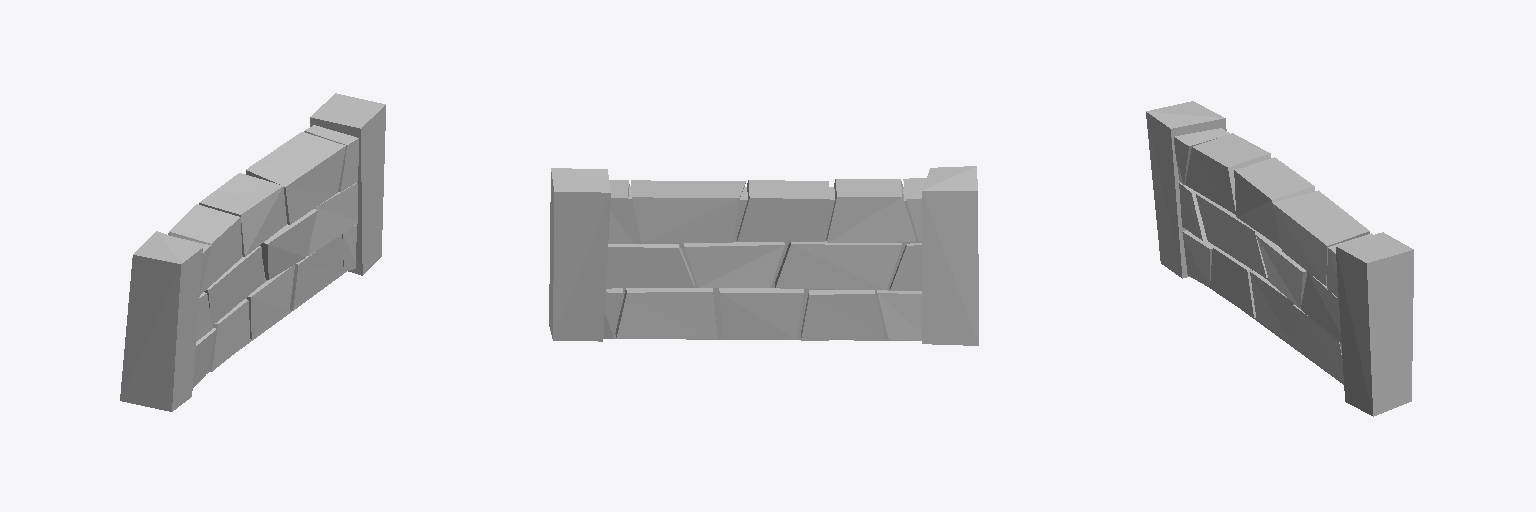
3 renders of one model, left to right at view 1: azimuth 30°, elevation 25°; view 2: azimuth 150°, elevation 25°; view 3: azimuth 270°, elevation 25°, orthographic.
Parts seen in each view (by area): view 1: group[number redacted], group[number redacted], group[number redacted], group[number redacted], group[number redacted], group[number redacted], group[number redacted], group[number redacted], group[number redacted], group[number redacted], group[number redacted], group[number redacted] (+3 smaller); view 2: group[number redacted], group[number redacted], group[number redacted], group[number redacted], group[number redacted], group[number redacted], group[number redacted], group[number redacted], group[number redacted], group[number redacted], group[number redacted], group[number redacted] (+5 smaller); view 3: group[number redacted], group[number redacted], group[number redacted], group[number redacted], group[number redacted], group[number redacted], group[number redacted], group[number redacted], group[number redacted], group[number redacted], group[number redacted], group[number redacted] (+2 smaller).
Boxes of the visible parts, x1,y1,x2,y2 form: group[number redacted]: [120, 231, 202, 411]; group[number redacted]: [310, 93, 385, 275]; group[number redacted]: [246, 132, 345, 224]; group[number redacted]: [199, 173, 286, 256]; group[number redacted]: [168, 204, 242, 293]; group[number redacted]: [204, 246, 263, 325]; group[number redacted]: [290, 235, 343, 310]; group[number redacted]: [260, 209, 317, 279]; group[number redacted]: [307, 182, 357, 255]; group[number redacted]: [247, 265, 294, 338]; group[number redacted]: [207, 299, 249, 371]; group[number redacted]: [304, 125, 358, 191]; group[number redacted]: [922, 166, 978, 345]; group[number redacted]: [549, 168, 610, 341]; group[number redacted]: [631, 180, 745, 243]; group[number redacted]: [775, 241, 901, 289]; group[number redacted]: [737, 180, 829, 241]; group[number redacted]: [615, 288, 717, 338]; group[number redacted]: [826, 179, 915, 242]; group[number redacted]: [719, 288, 803, 339]; group[number redacted]: [684, 242, 784, 287]; group[number redacted]: [801, 290, 884, 340]; group[number redacted]: [606, 244, 694, 287]; group[number redacted]: [606, 186, 921, 340]; group[number redacted]: [1336, 232, 1413, 416]; group[number redacted]: [1146, 101, 1226, 278]; group[number redacted]: [1272, 190, 1369, 285]; group[number redacted]: [1234, 157, 1314, 247]; group[number redacted]: [1185, 133, 1270, 214]; group[number redacted]: [1195, 193, 1267, 278]; group[number redacted]: [1293, 305, 1343, 382]; group[number redacted]: [1210, 246, 1255, 317]; group[number redacted]: [1250, 270, 1294, 344]; group[number redacted]: [1256, 234, 1306, 308]; group[number redacted]: [1301, 272, 1340, 341]; group[number redacted]: [1182, 230, 1214, 287].
Size of the model in its own units: 1.13 by 0.4831 by 0.7552.